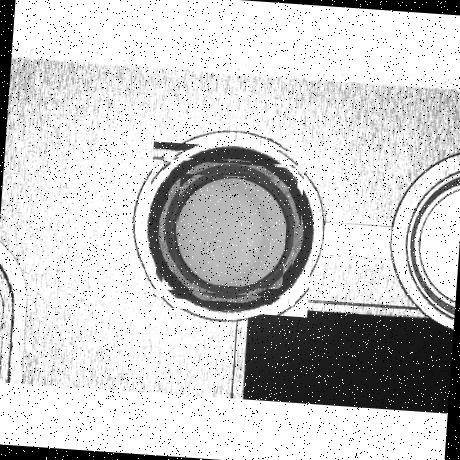Hole: (142, 140, 318, 318)
Hole2: (153, 156, 305, 306)
Hole3: (162, 160, 298, 298)
Hole4: (172, 172, 290, 290)
